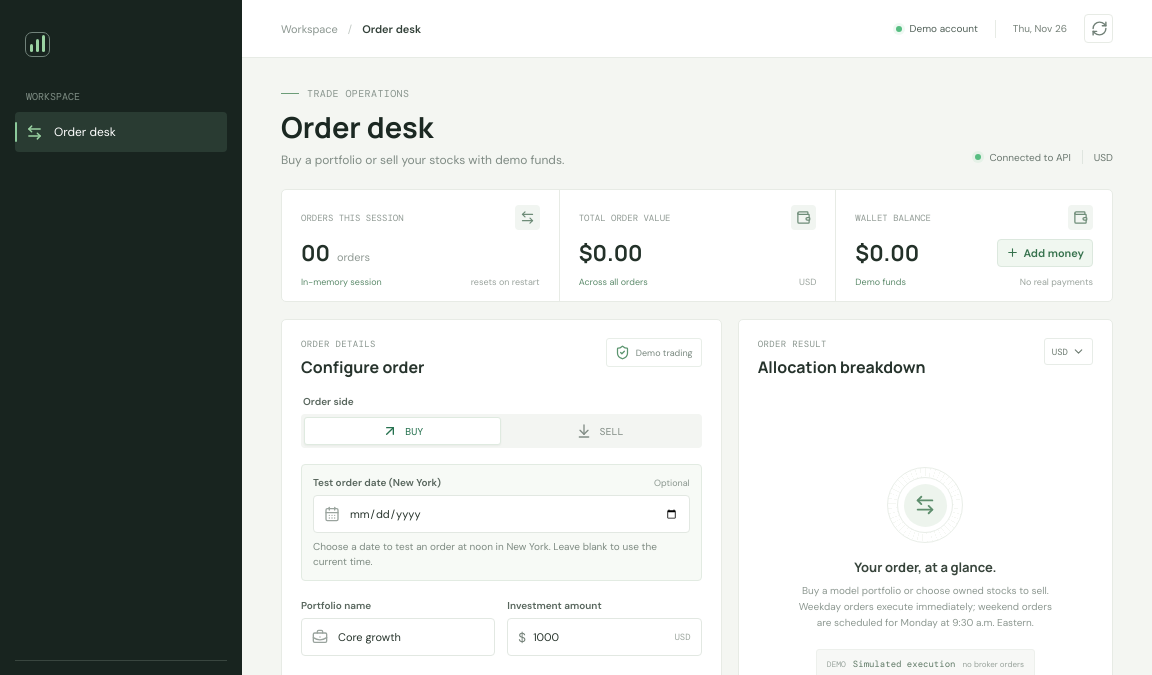
Test: order desk › shows the empty sell state and returns to buying stocks
The image size is (1152, 675).
Expected: the text "Connected to API" is shown, [989,150,1071,164]
Click the button "SELL" at (600, 431), box [501,417,699,445]
(page scrolled)
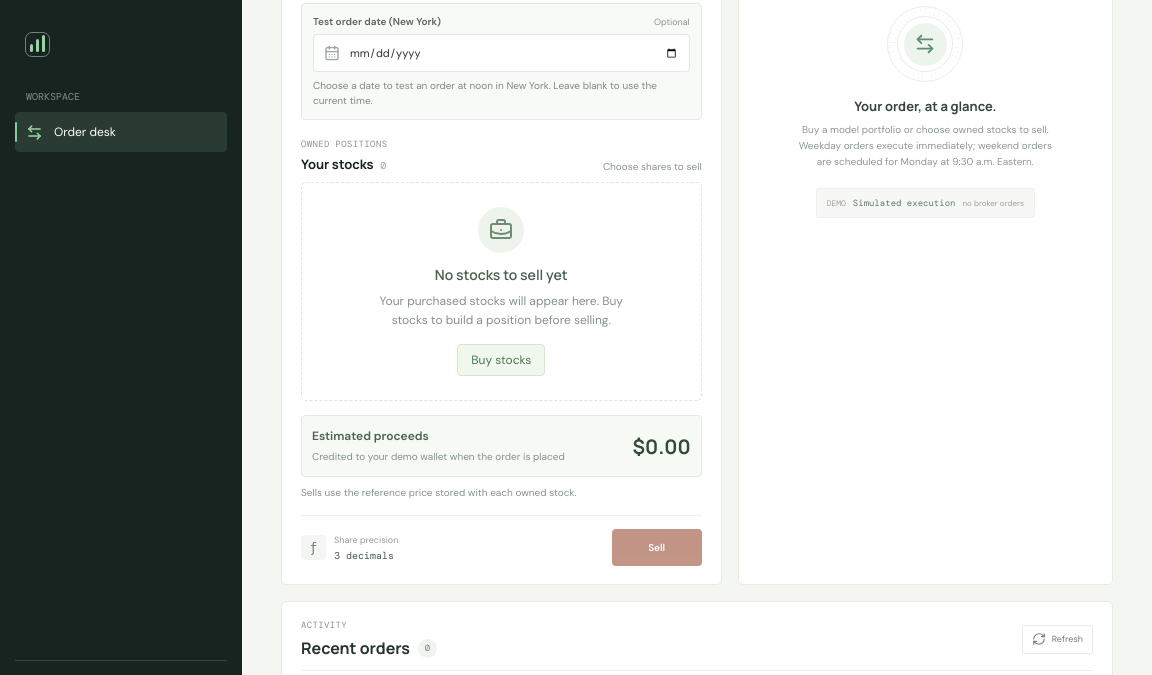
Click the button "Buy stocks" at (501, 360), box [457,344,545,376]
(page scrolled)
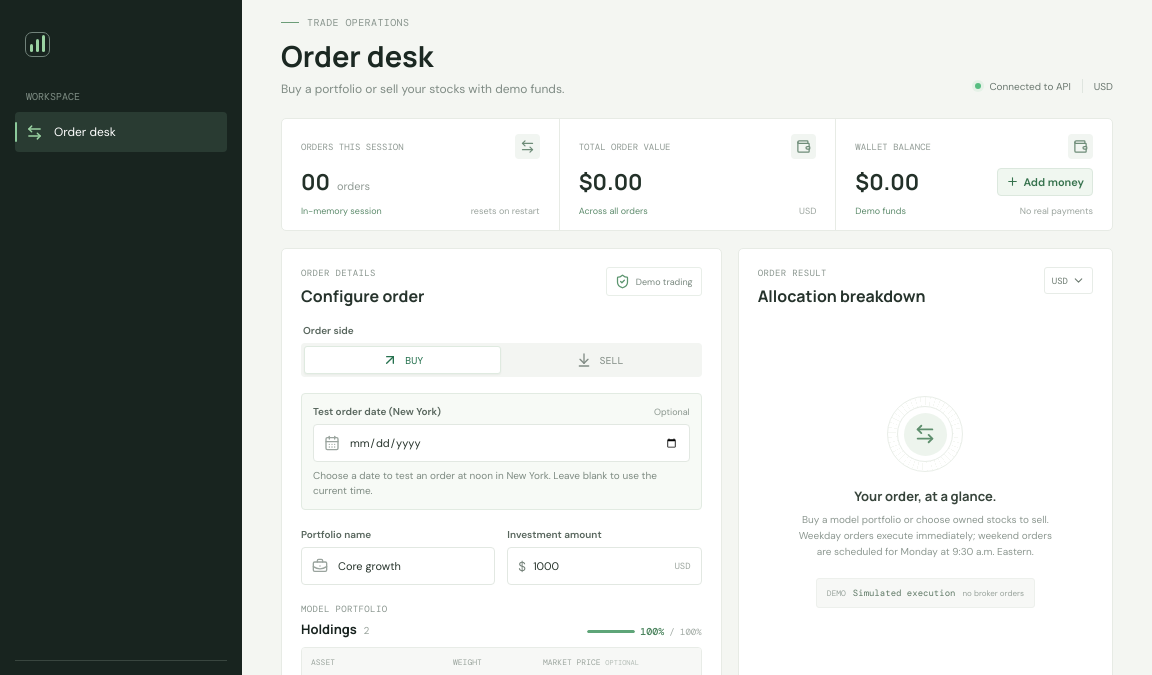
Result: the number field labelled "Investment amount" is shown at [531,548,669,584]
